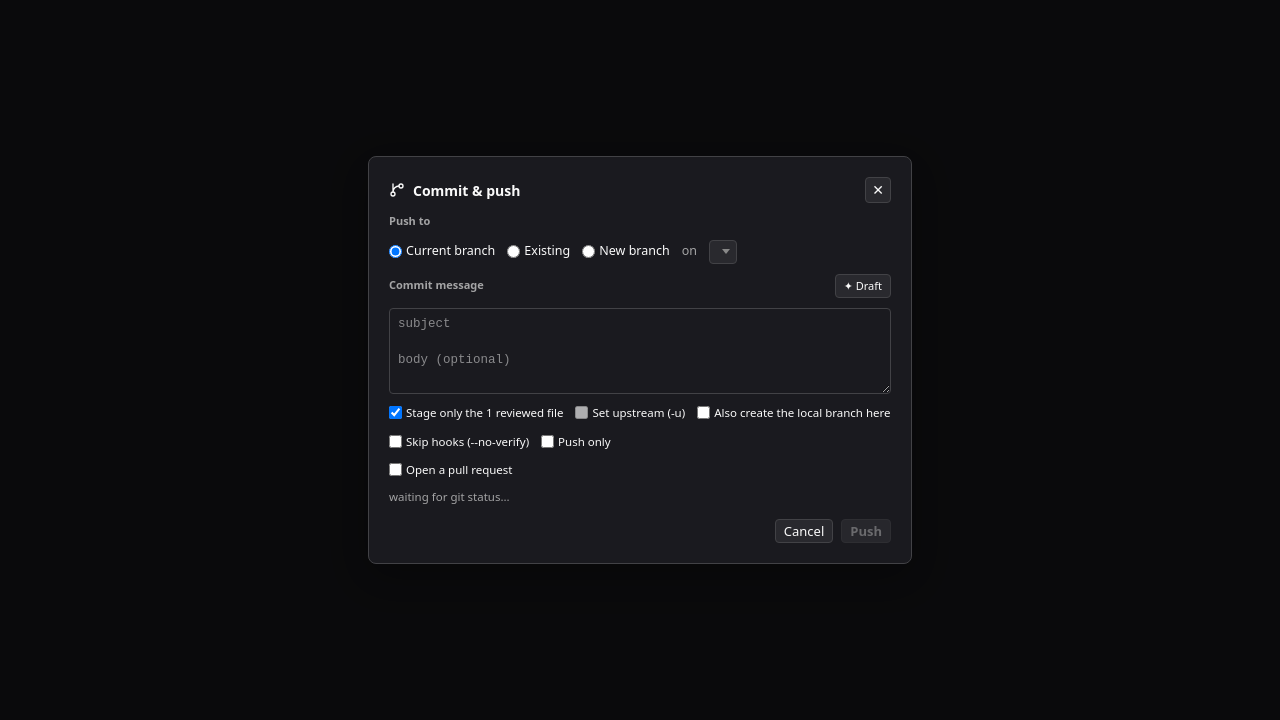
clears the fallback notice after a successful AI retry
Click the button "✦ Draft" at (863, 286), box [835,274,891,298]
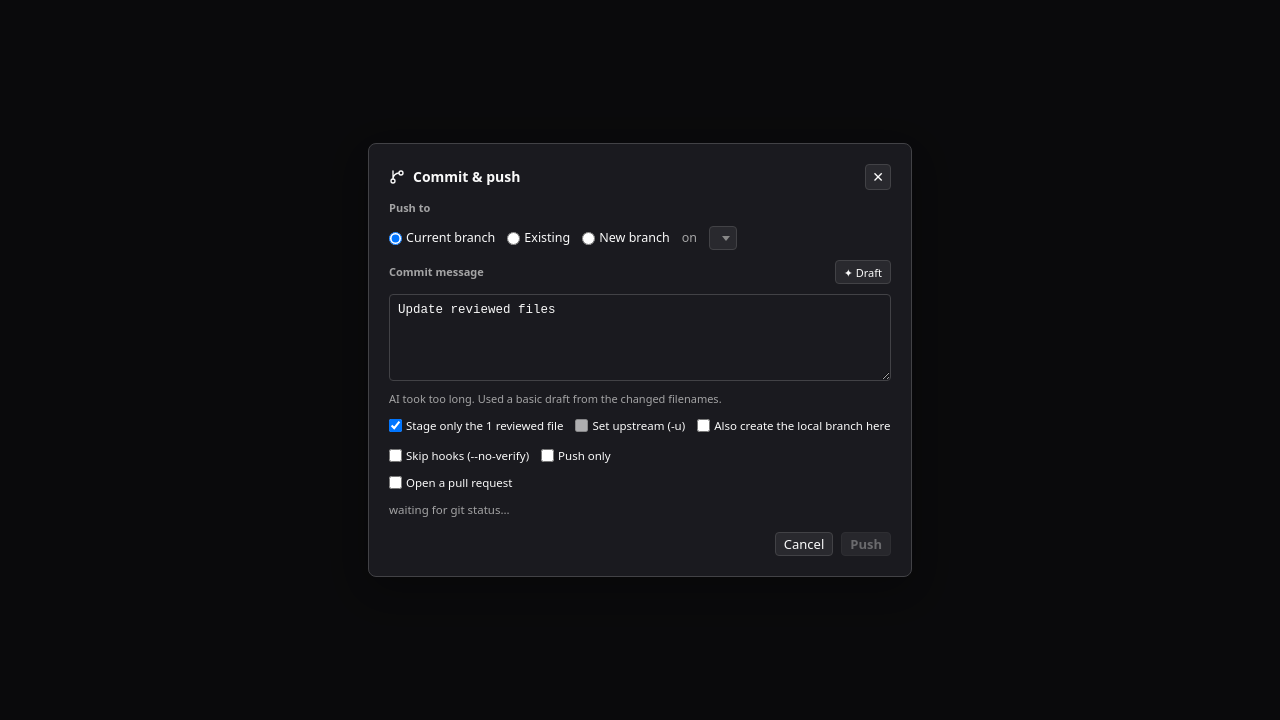
Click the button "✦ Draft" at (863, 272), box [835,260,891,284]
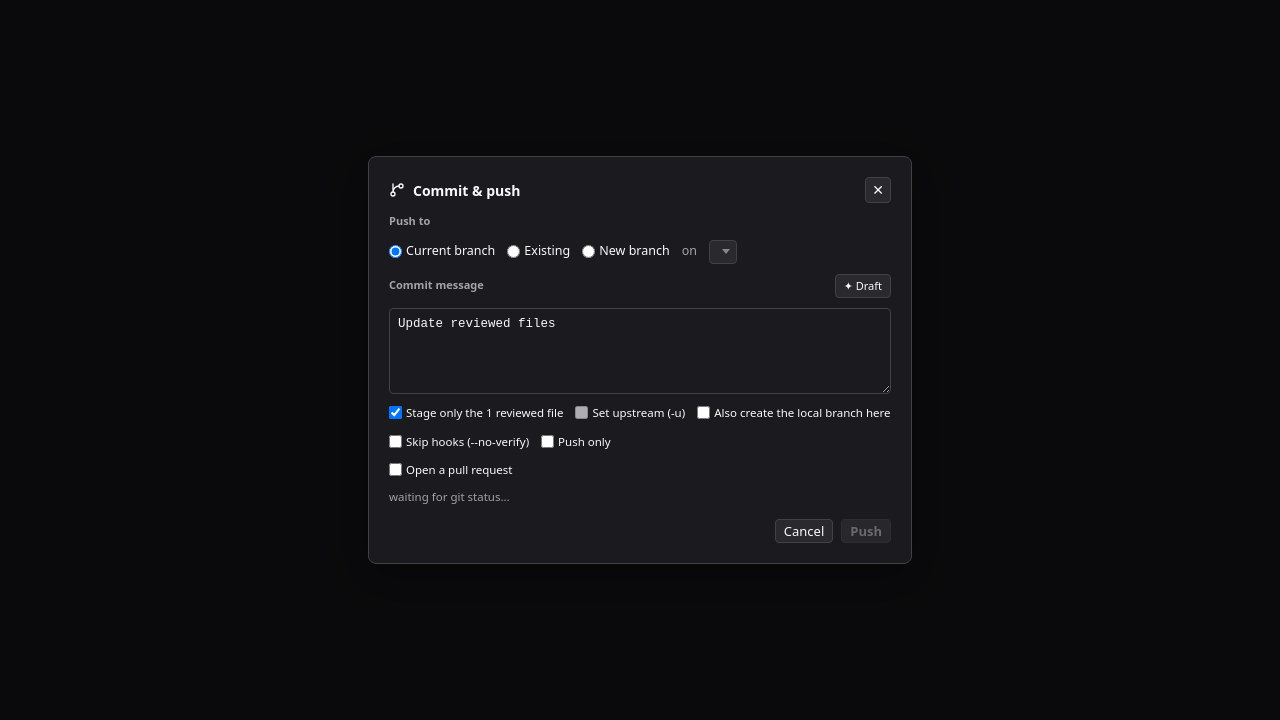
Expected: the message "AI took too long. Used a basic draft from the changed filenames." is gone
